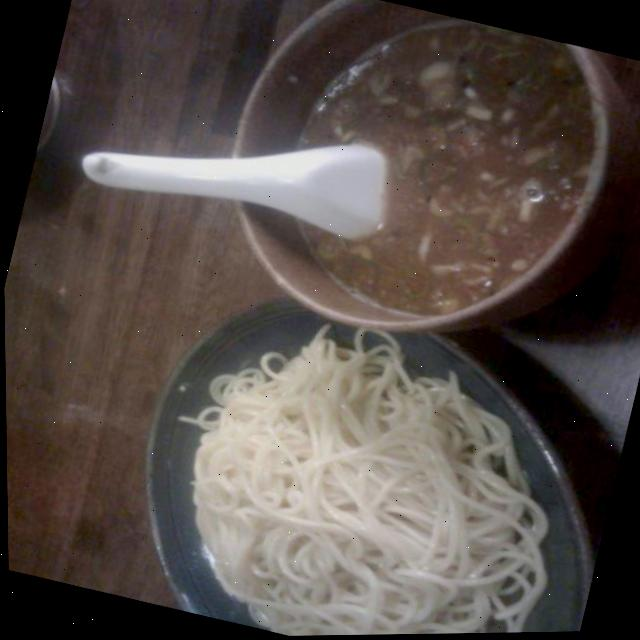面条主食: (68, 0, 612, 639)
